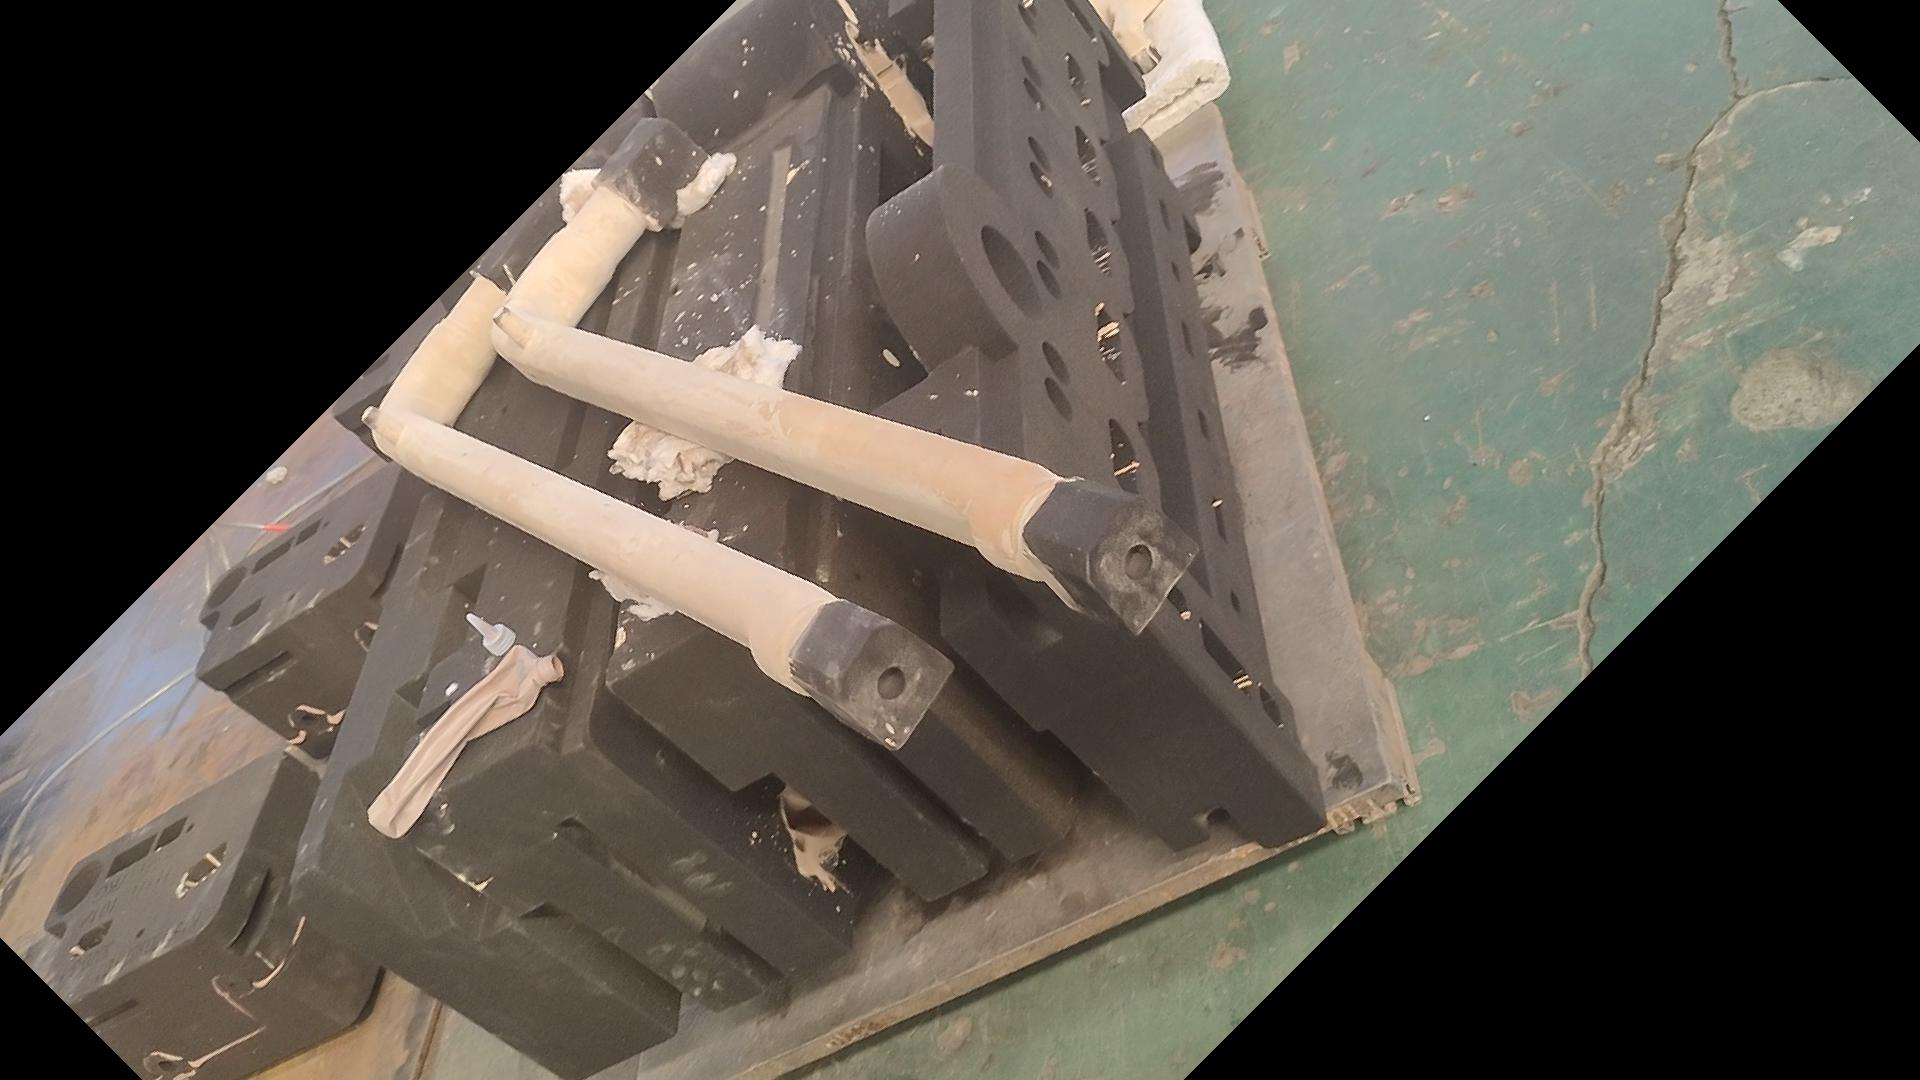pouring hole: (980, 224, 1043, 319), (53, 858, 104, 916), (203, 564, 249, 612)
